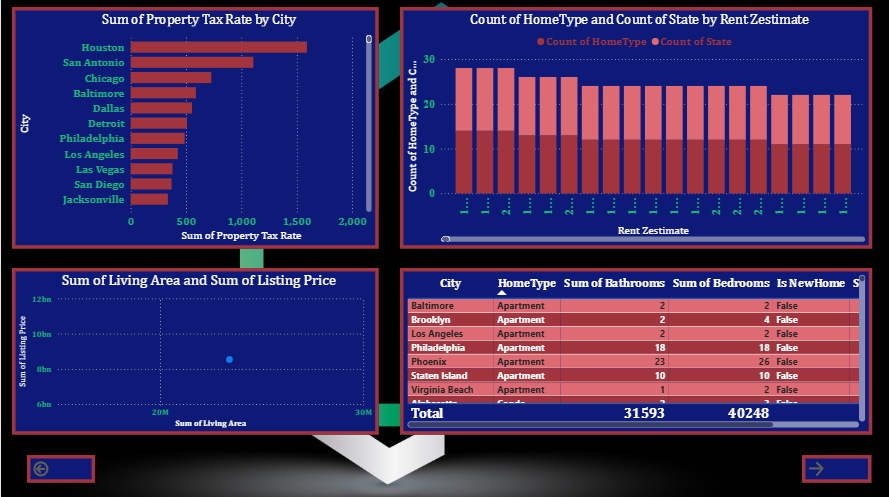

The page's visual inventory and layout, read from the dashboard file:
{"tool":"powerbi","page":{"name":"MARKET PRICE ANALYSIS","canvas":[1280,720],"ordinal":1},"visuals":[{"type":"clusteredBarChart","fields":{"Category":["FACT_PropertyListings.City"],"Y":["Sum(FACT_PropertyListings.Property Tax Rate)"]},"box":[16,12,528,348],"z":0},{"type":"lineStackedColumnComboChart","fields":{"Category":["FACT_PropertyListings.Rent Zestimate"],"Y":["CountNonNull(FACT_PropertyListings.HomeType)","CountNonNull(FACT_PropertyListings.State)"]},"box":[574.6,11.5,679.7,348.5],"z":1000},{"type":"scatterChart","fields":{"X":["Sum(FACT_PropertyListings.Living Area)"],"Y":["Sum(FACT_PropertyListings.Listing Price)"]},"box":[16,388,528,240],"z":2000},{"type":"tableEx","fields":{"Values":["FACT_PropertyListings.City","FACT_PropertyListings.HomeType","Sum(FACT_PropertyListings.Bathrooms)","Sum(FACT_PropertyListings.Bedrooms)","DIM_PropertyStatus.Is NewHome","Sum(FACT_PropertyListings.Listing Price)"]},"box":[574,388,680,240],"z":3000},{"type":"actionButton","box":[38,656,98,40],"z":4000},{"type":"actionButton","box":[1154,656,100,40],"z":5000}]}

Visuals, with their boxes in screenshot pixels (x1, y1, x2, y2), scaled from the page's 1280x720 canvas onto the 889x497 screenshot:
clusteredBarChart - FACT_PropertyListings.City x Sum(FACT_PropertyListings.Property Tax Rate): {"x1": 11, "y1": 8, "x2": 378, "y2": 248}
lineStackedColumnComboChart - FACT_PropertyListings.Rent Zestimate x CountNonNull(FACT_PropertyListings.HomeType): {"x1": 399, "y1": 8, "x2": 871, "y2": 248}
scatterChart - Sum(FACT_PropertyListings.Living Area) x Sum(FACT_PropertyListings.Listing Price): {"x1": 11, "y1": 268, "x2": 378, "y2": 433}
tableEx - FACT_PropertyListings.City x FACT_PropertyListings.HomeType: {"x1": 399, "y1": 268, "x2": 871, "y2": 433}
actionButton: {"x1": 26, "y1": 453, "x2": 94, "y2": 480}
actionButton: {"x1": 801, "y1": 453, "x2": 871, "y2": 480}
